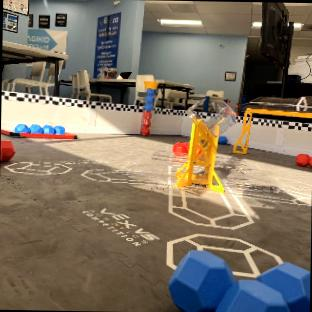Goal: (233, 96, 312, 153)
Med_goal: (176, 99, 236, 191)
Parking-R: (0, 130, 76, 138)
V5_BLUE: (169, 250, 310, 312), (14, 124, 64, 133), (218, 136, 226, 143)
V5_RED: (0, 140, 13, 161), (296, 154, 312, 166), (174, 141, 189, 152)
